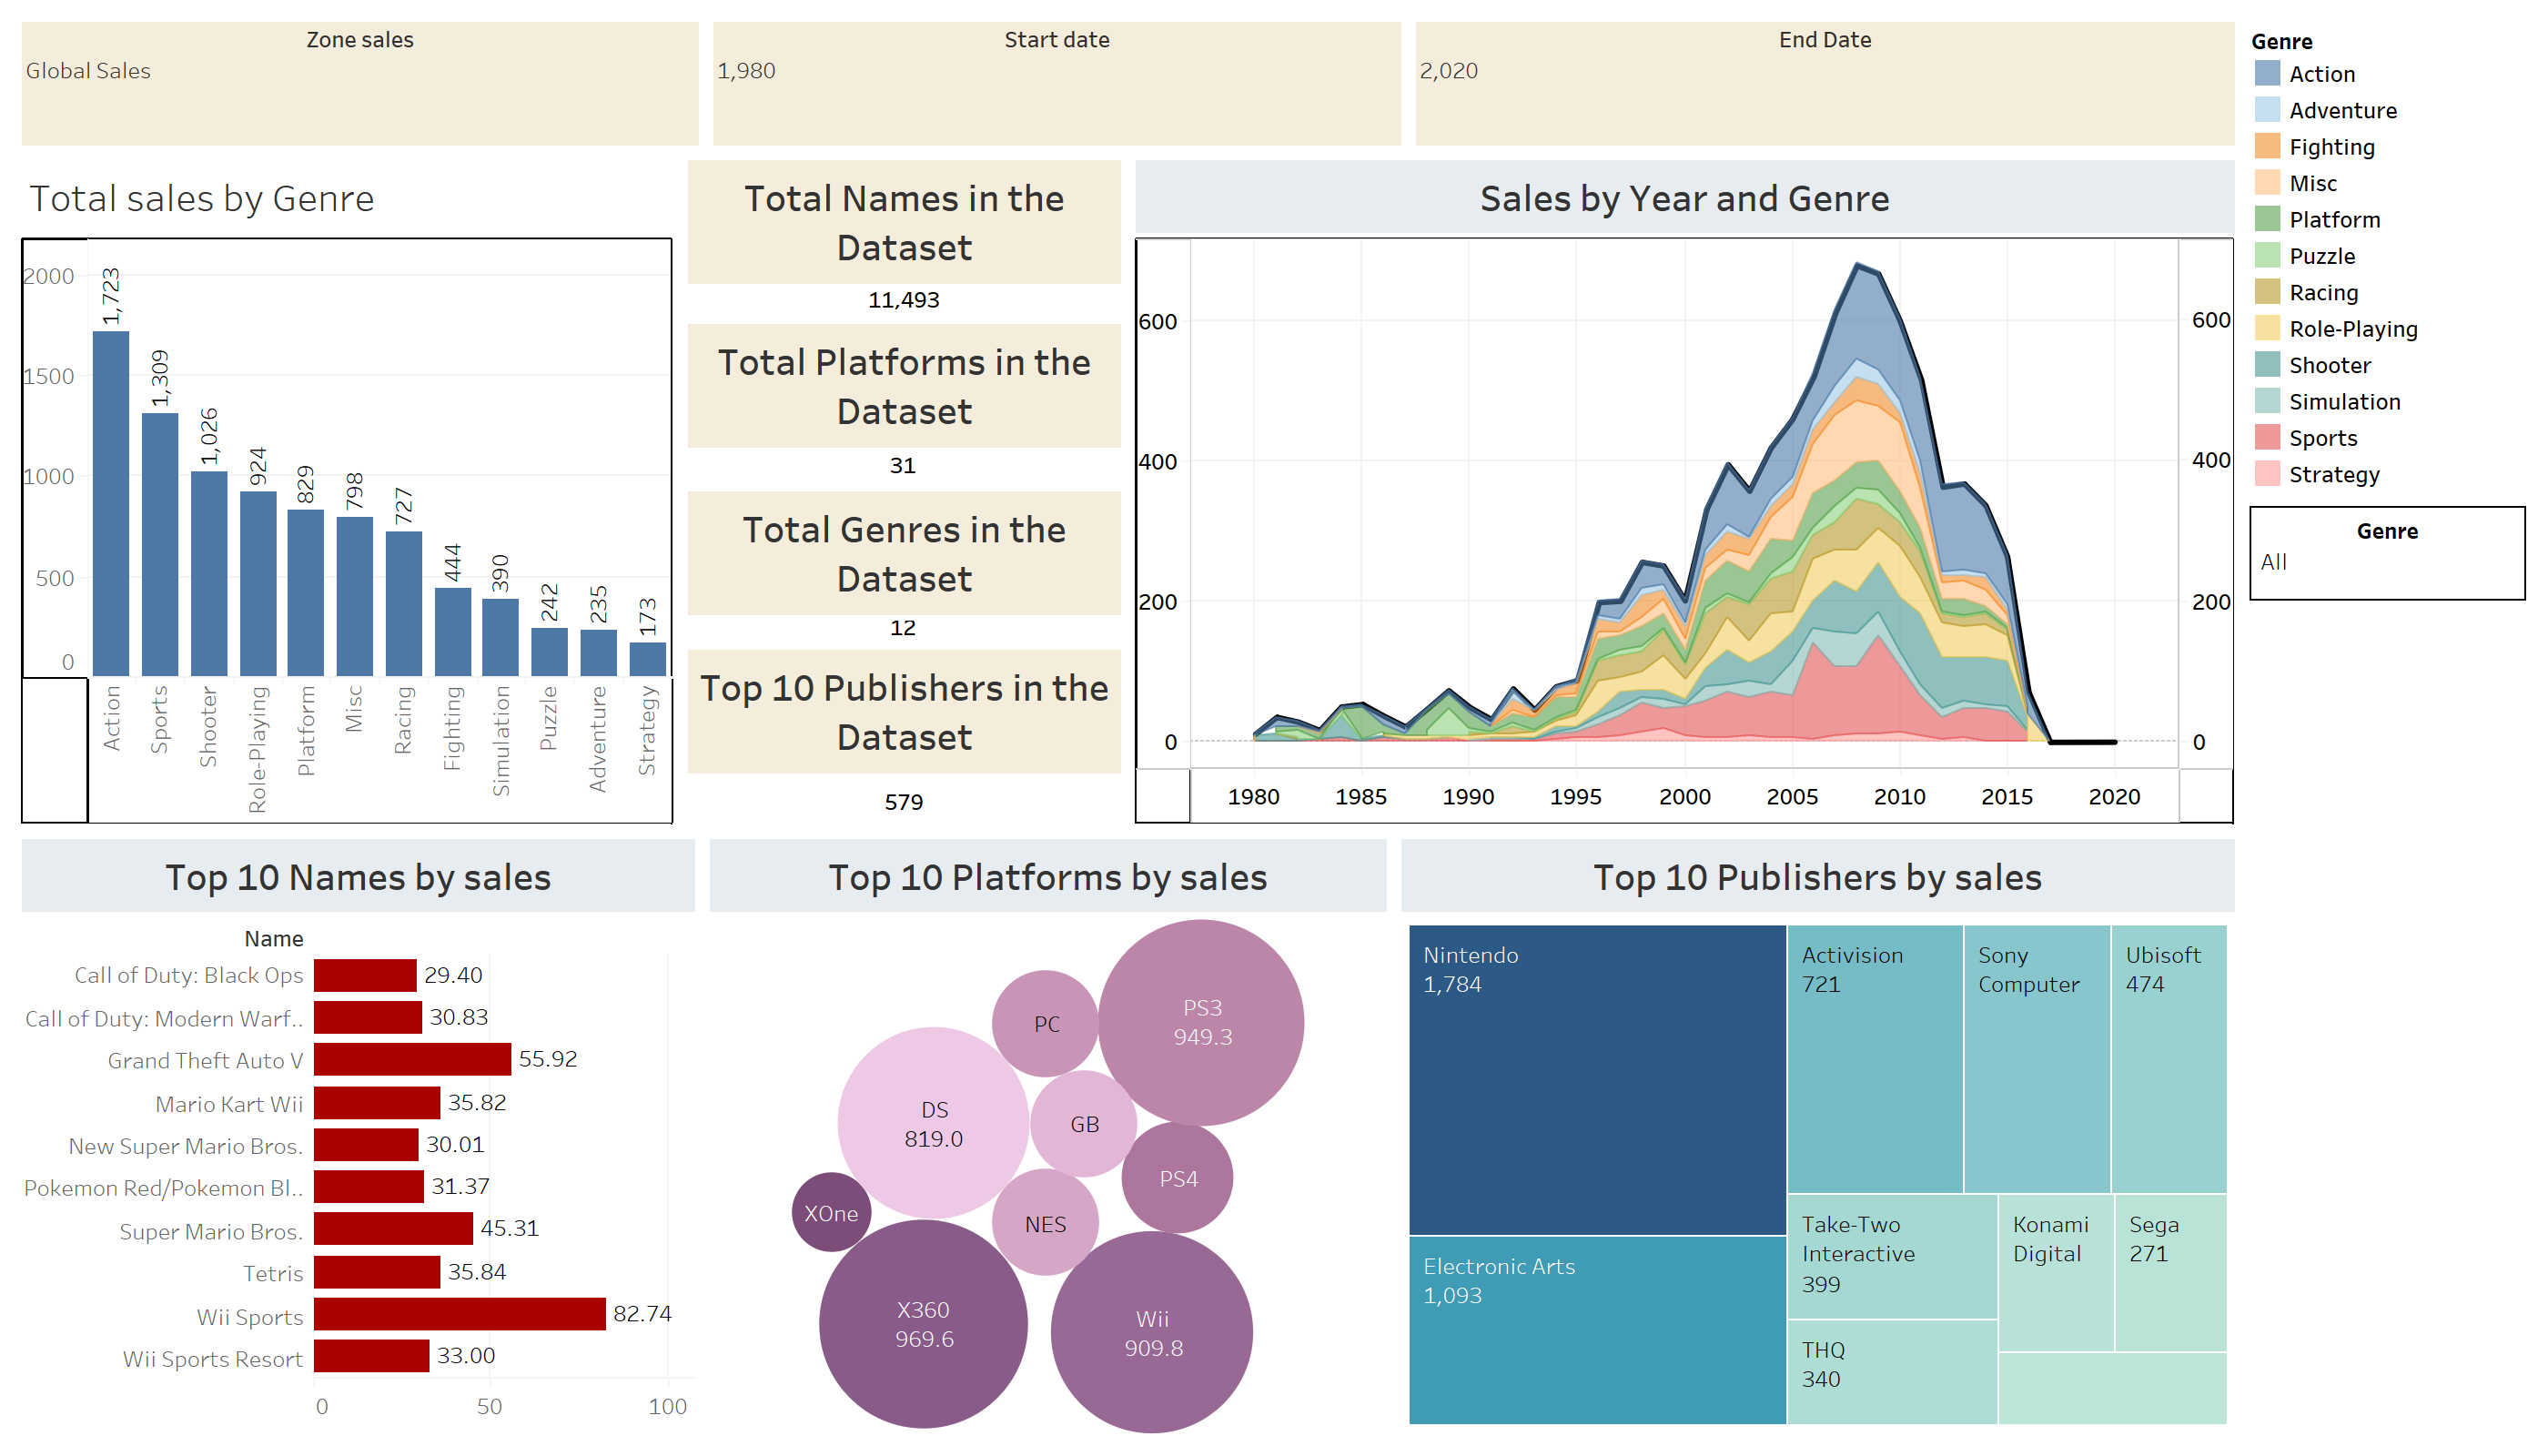

This screenshot's page, from the dashboard's own definition file:
{"tool":"tableau","page":{"name":"Dashboard 1","canvas":[1400,800],"ordinal":0},"visuals":[{"type":"parameter","param":"[Parameters].[Parameter 1]","box":[8,8,380,76]},{"type":"parameter","param":"[Parameters].[Parameter 2]","box":[388,8,386,76]},{"type":"parameter","param":"[Parameters].[Parameter 3]","box":[774,8,458,76]},{"type":"legend","title":"Sales by years and genre","param":"[federated.09ju5uc0jbtrnb1ew85cd0gv14sz].[none:Genre:nk]","box":[1232,8,160,266]},{"type":"worksheet","title":"Total sales by genre","mark":"Automatic","rows":["Calculation_1434959494913658880"],"cols":["Genre"],"box":[8,84,366,373]},{"type":"worksheet","title":"Total Names in the Dataset","mark":"Automatic","box":[374,84,246,90]},{"type":"worksheet","title":"Sales by years and genre","mark":"Automatic","rows":["Calculation_1434959494913658880","Calculation_1434959494913658880"],"cols":["Year"],"box":[620,84,612,373]},{"type":"worksheet","title":"Total Platforms in the dataset","mark":"Automatic","box":[374,174,246,92]},{"type":"worksheet","title":"Total Genres in the Dataset ","mark":"Automatic","box":[374,266,246,87]},{"type":"filter","title":"Sales by years and genre","param":"[federated.09ju5uc0jbtrnb1ew85cd0gv14sz].[none:Genre:nk]","box":[1232,274,160,60]},{"type":"worksheet","title":"Total Publishers in the dataset ","mark":"Automatic","box":[374,353,246,104]},{"type":"worksheet","title":"Top 10 names by sales","mark":"Automatic","rows":["Name"],"cols":["Calculation_1434959494913658880"],"box":[8,457,378,335]},{"type":"worksheet","title":"Top 10 Platforms by sales","mark":"Circle","box":[386,457,380,335]},{"type":"worksheet","title":"Top 10 publishers by sales ","mark":"Automatic","box":[766,457,466,335]}]}

Visuals, with their boxes in screenshot pixels (x1, y1, x2, y2), scaled from the page's 1400x800 canvas onto the 2548x1456 screenshot:
parameter: 15,15,706,153
parameter: 706,15,1409,153
parameter: 1409,15,2242,153
"Sales by years and genre" legend: 2242,15,2533,499
"Total sales by genre" worksheet: 15,153,681,832
"Total Names in the Dataset" worksheet: 681,153,1128,317
"Sales by years and genre" worksheet: 1128,153,2242,832
"Total Platforms in the dataset" worksheet: 681,317,1128,484
"Total Genres in the Dataset " worksheet: 681,484,1128,642
"Sales by years and genre" filter: 2242,499,2533,608
"Total Publishers in the dataset " worksheet: 681,642,1128,832
"Top 10 names by sales" worksheet: 15,832,703,1441
"Top 10 Platforms by sales" worksheet (Circle marks): 703,832,1394,1441
"Top 10 publishers by sales " worksheet: 1394,832,2242,1441
